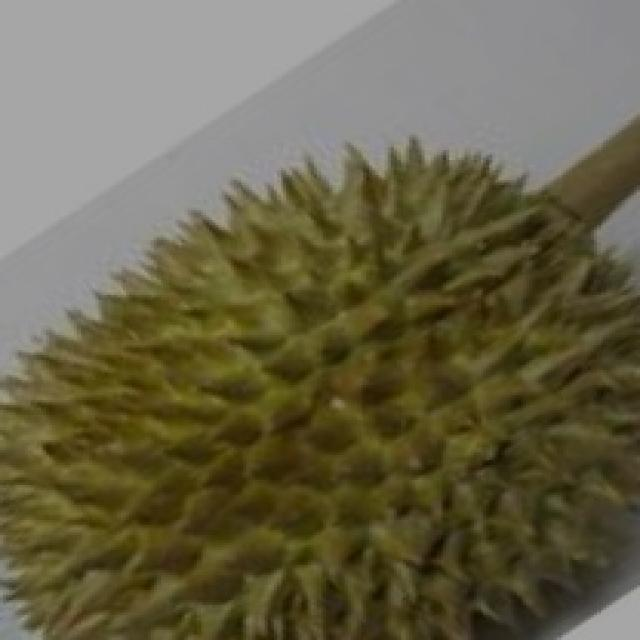fruit: (0, 202, 335, 635), (305, 260, 637, 640)
